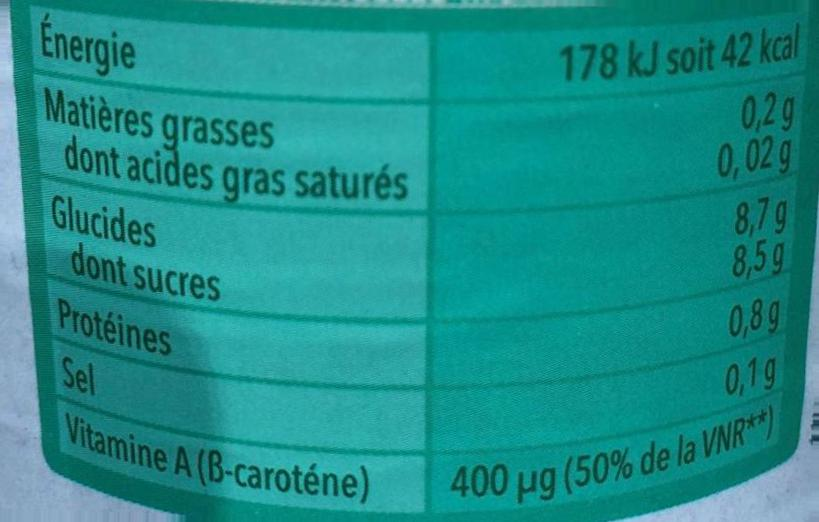column: (40, 11, 412, 504), (450, 33, 798, 506)
line: (46, 90, 798, 191), (50, 198, 796, 295), (63, 411, 785, 505), (43, 13, 801, 84), (52, 303, 792, 353), (58, 360, 778, 397)
table: (30, 3, 798, 516)
